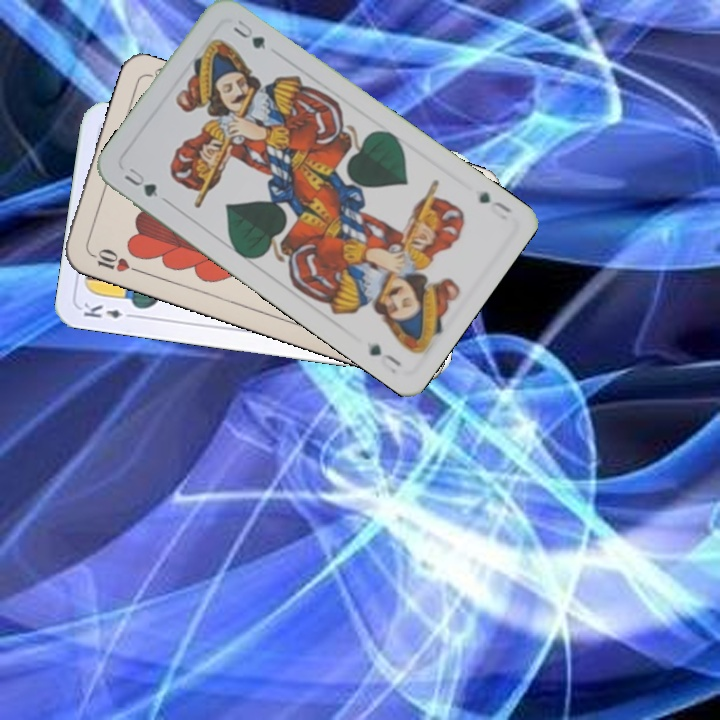EK: (79, 299, 138, 321)
GU: (120, 163, 161, 200), (474, 187, 516, 216)
H10: (85, 244, 142, 275)
